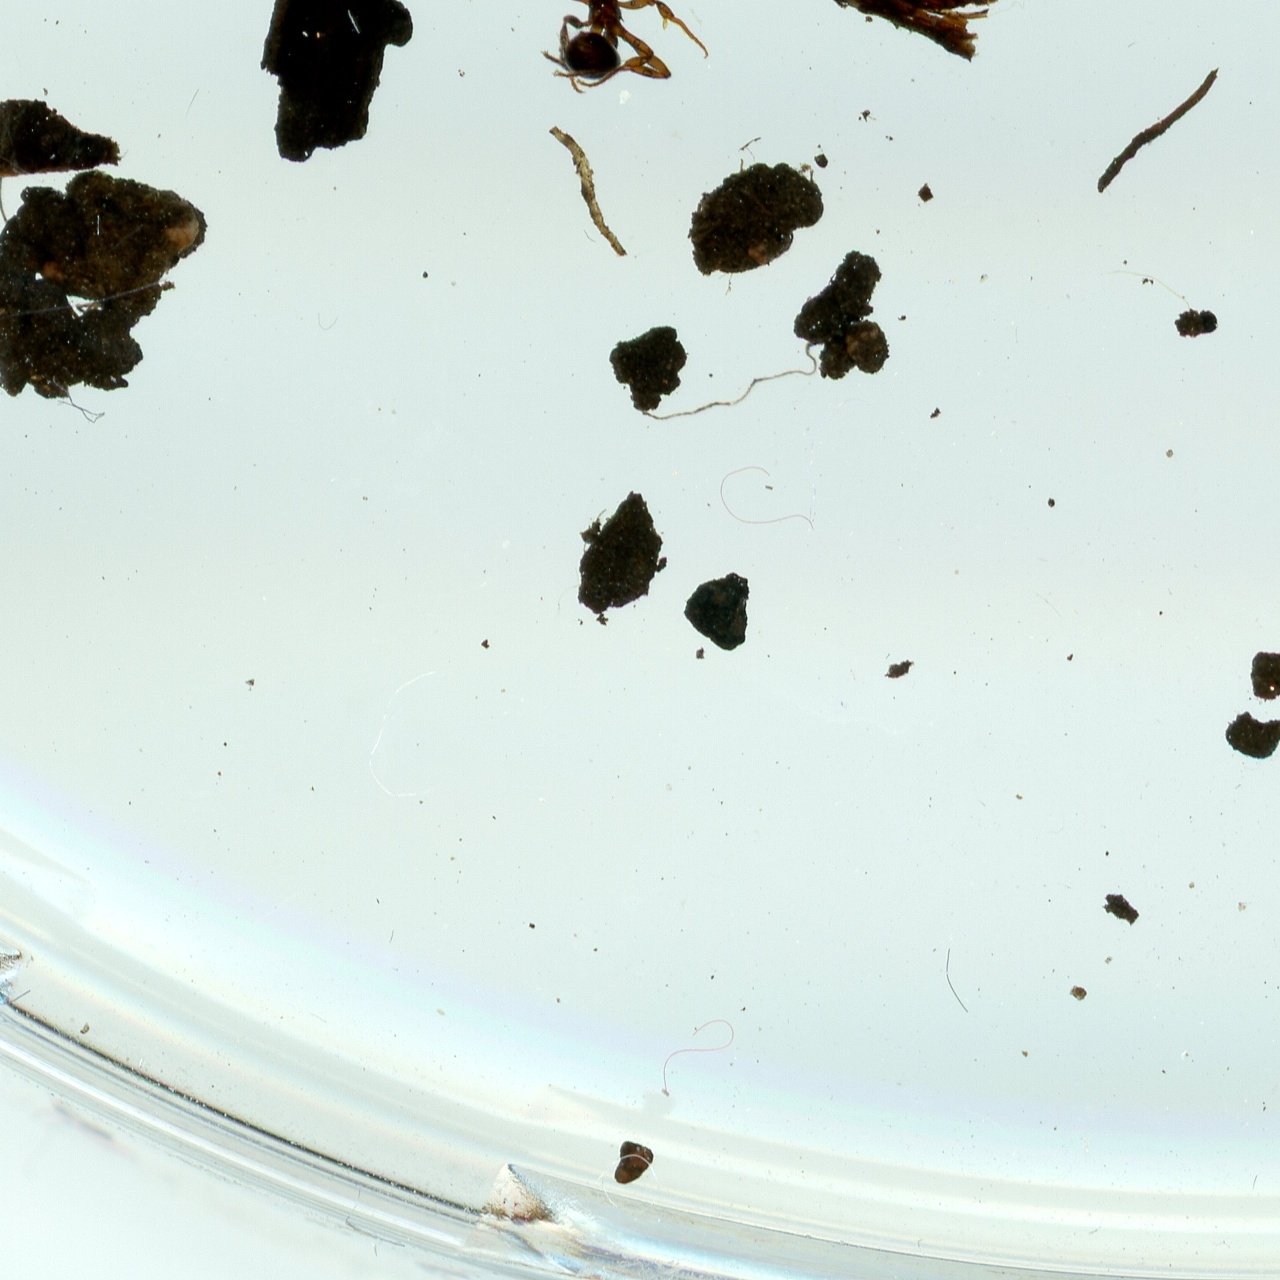arthropod: (451, 0, 715, 96)
